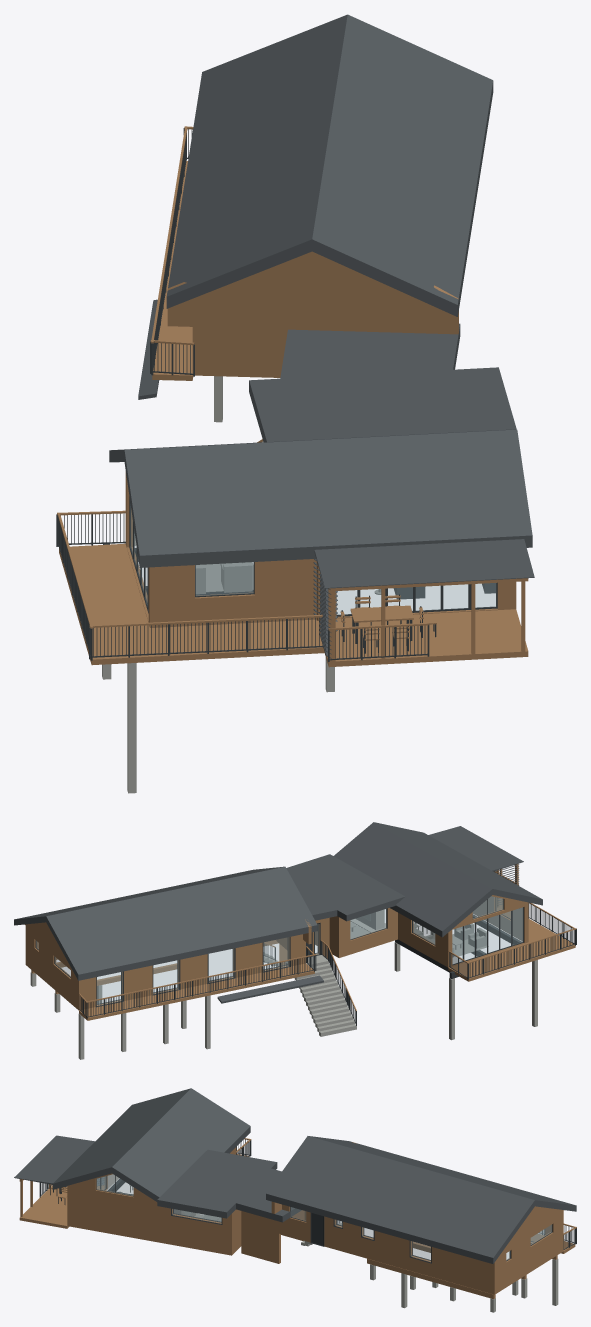
The model's file is scheme-j-house.glb.
3 views of the same model, one above another, from view 1: azimuth 30°, elevation 25°; view 2: azimuth 150°, elevation 25°; view 3: azimuth 270°, elevation 25° (orthographic). The views are drawn at different scales.
Parts seen in each view (by area): view 1: house_roof, house_timber, house_dark, house_glass, house_concrete, house_fabric; view 2: house_roof, house_timber, house_dark, house_glass, house_concrete, house_fabric, house_white; view 3: house_roof, house_timber, house_dark, house_glass, house_concrete.
Boxes of the visible parts, x1,y1,x2,y2 form: house_roof: (109, 14, 534, 658); house_timber: (57, 126, 528, 667); house_dark: (56, 128, 497, 661); house_glass: (130, 506, 495, 614); house_concrete: (102, 376, 334, 793); house_fabric: (195, 562, 381, 594); house_roof: (14, 822, 542, 1003); house_timber: (25, 863, 576, 1020); house_dark: (35, 885, 576, 1025); house_glass: (36, 896, 522, 1005); house_concrete: (30, 909, 537, 1059); house_fabric: (350, 921, 488, 956); house_white: (472, 896, 522, 940); house_roof: (14, 1088, 576, 1263); house_timber: (19, 1138, 576, 1298); house_dark: (39, 1139, 576, 1263); house_glass: (97, 1174, 551, 1261); house_concrete: (174, 1209, 558, 1312).
Bounding box in the file's own units: 26.31 × 11.6 × 32.73.
